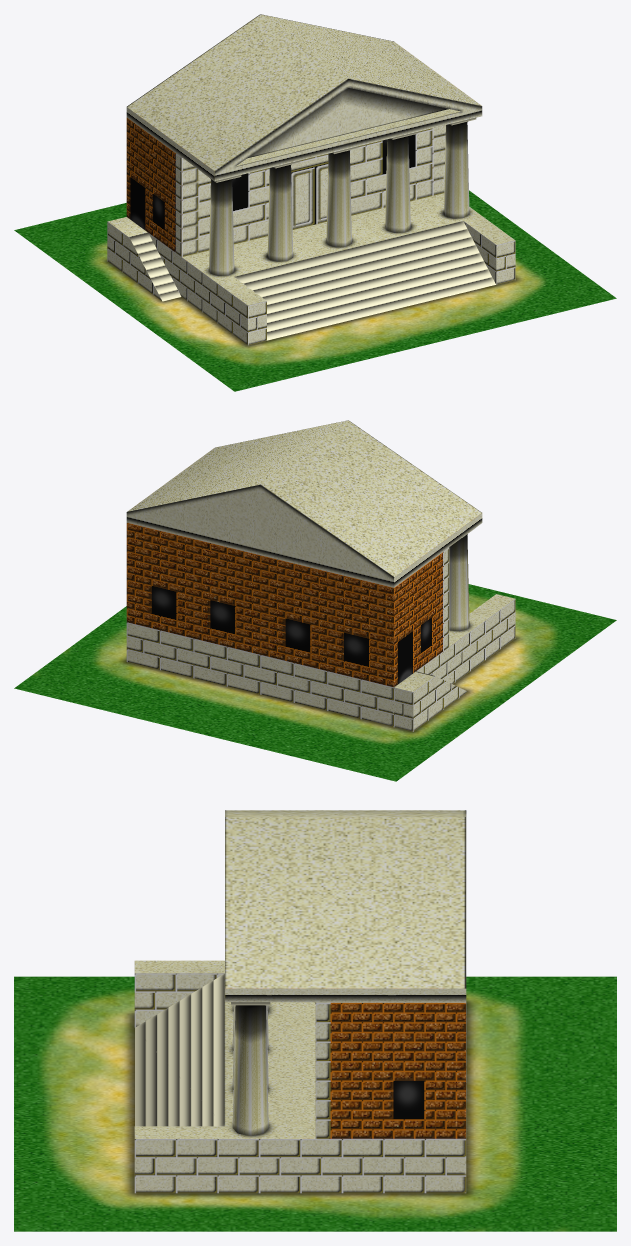
Rendered from bank.dae.
The picture shows the model from 3 angles, top to bottom: view 1: azimuth 30°, elevation 25°; view 2: azimuth 150°, elevation 25°; view 3: azimuth 270°, elevation 25°; orthographic projection. The views are drawn at different scales.
Visible parts, largest first — view 1: Box09; view 2: Box09; view 3: Box09.
Boxes of the visible parts, box(x1,y1,x2,y2) form: Box09: box(14, 14, 616, 391); Box09: box(14, 420, 616, 781); Box09: box(14, 810, 616, 1231).
Bounding box in the file's own units: 10 × 10 × 5.25.
Materials: 2 (2 with a texture image).
